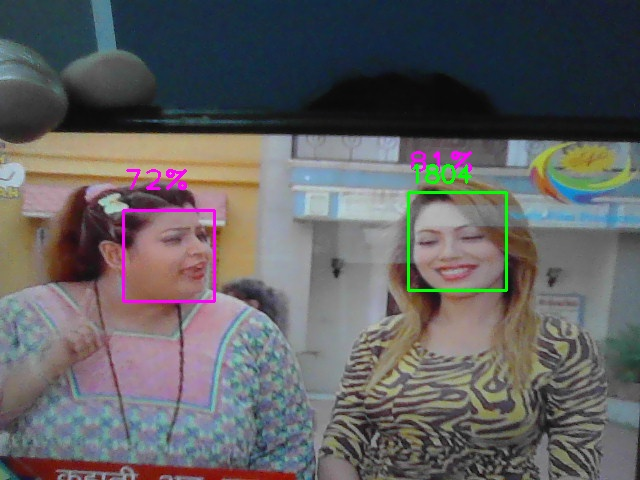fake: (408, 192, 507, 291)
